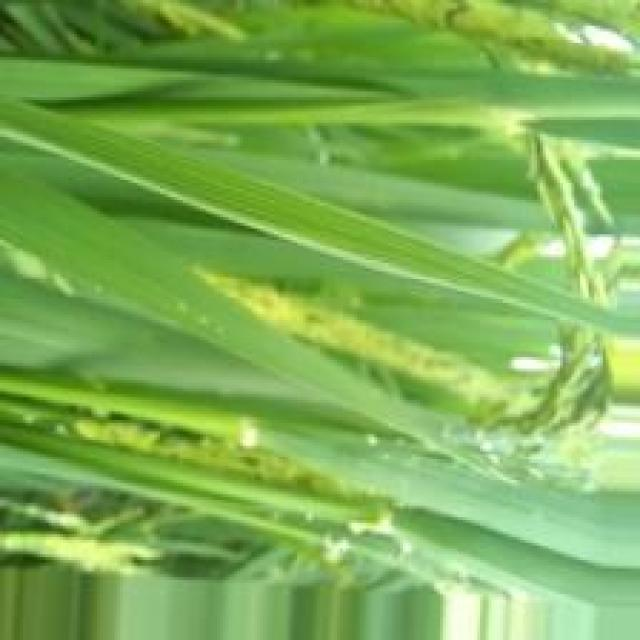HealthyLeaf: (6, 175, 156, 308), (191, 165, 354, 250), (405, 459, 523, 518)
